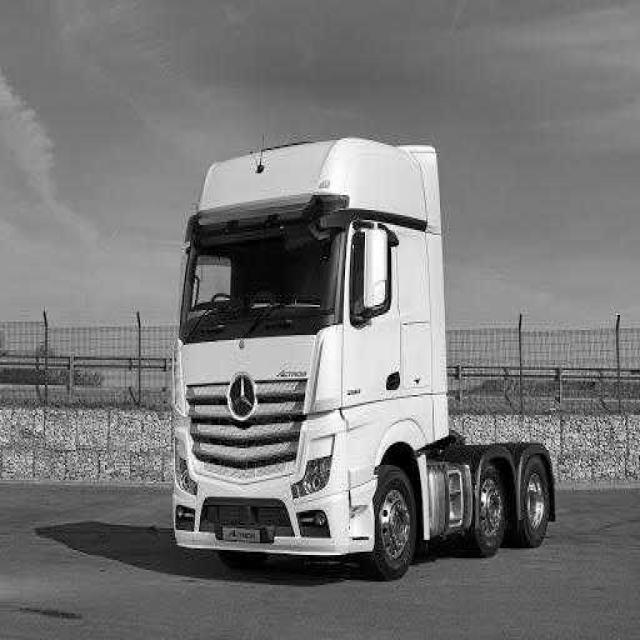Truck: (173, 138, 555, 578)
